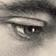eye: (24, 26, 41, 35)
